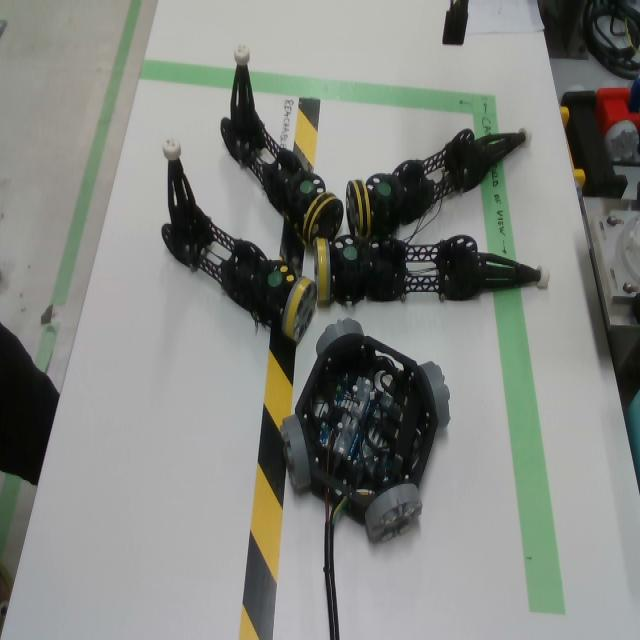body: (295, 335, 439, 527)
body_connector: (365, 484, 423, 544), (280, 415, 311, 491), (418, 361, 451, 429), (315, 317, 364, 356)
leg: (161, 139, 317, 343), (219, 44, 344, 247), (345, 125, 532, 238), (313, 235, 551, 304)
leg_connector: (282, 277, 317, 343), (302, 192, 344, 245), (346, 179, 371, 239), (314, 238, 331, 308)
leg_marker: (268, 271, 282, 287), (377, 183, 391, 197), (343, 247, 357, 260), (300, 180, 314, 193)
